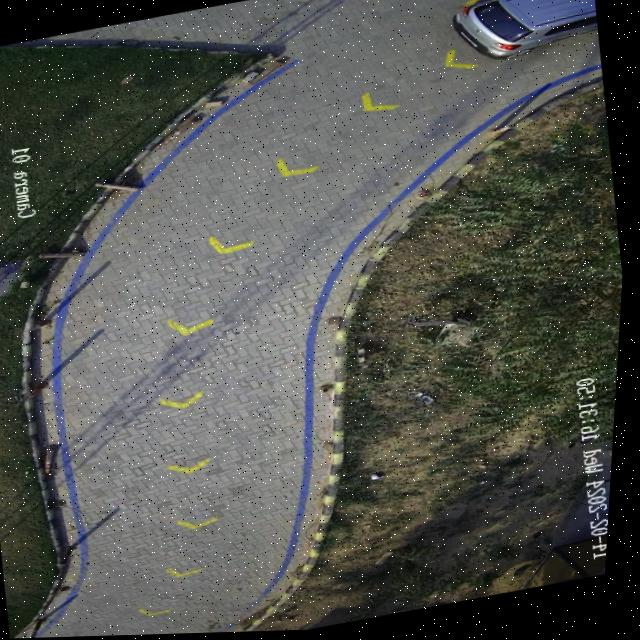car: (451, 0, 599, 64)
